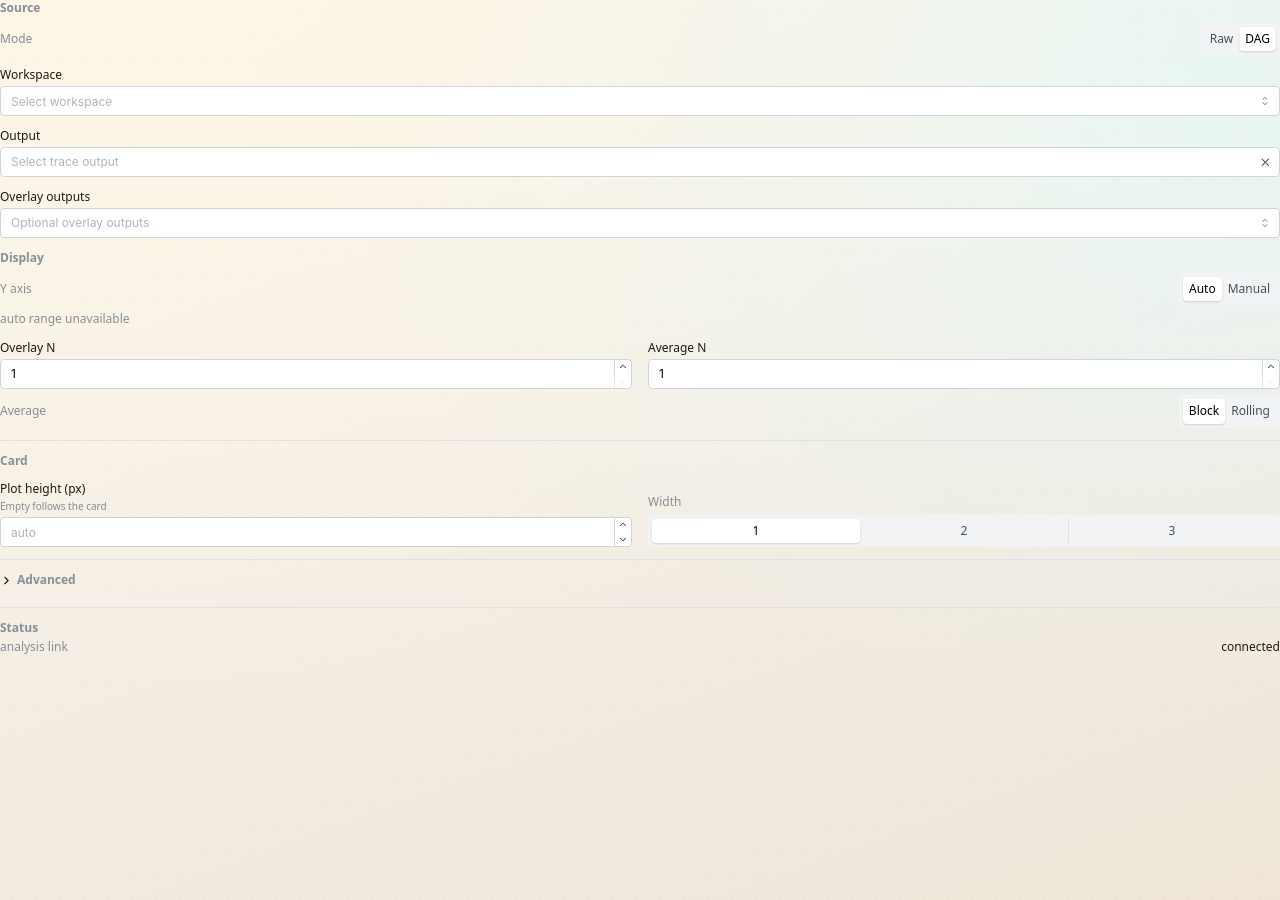
Test: PanelCard › settings › keeps only the set-once trace knobs under Advanced
Click the button "Advanced".
click(46, 580)  # box [0,572,1279,589]
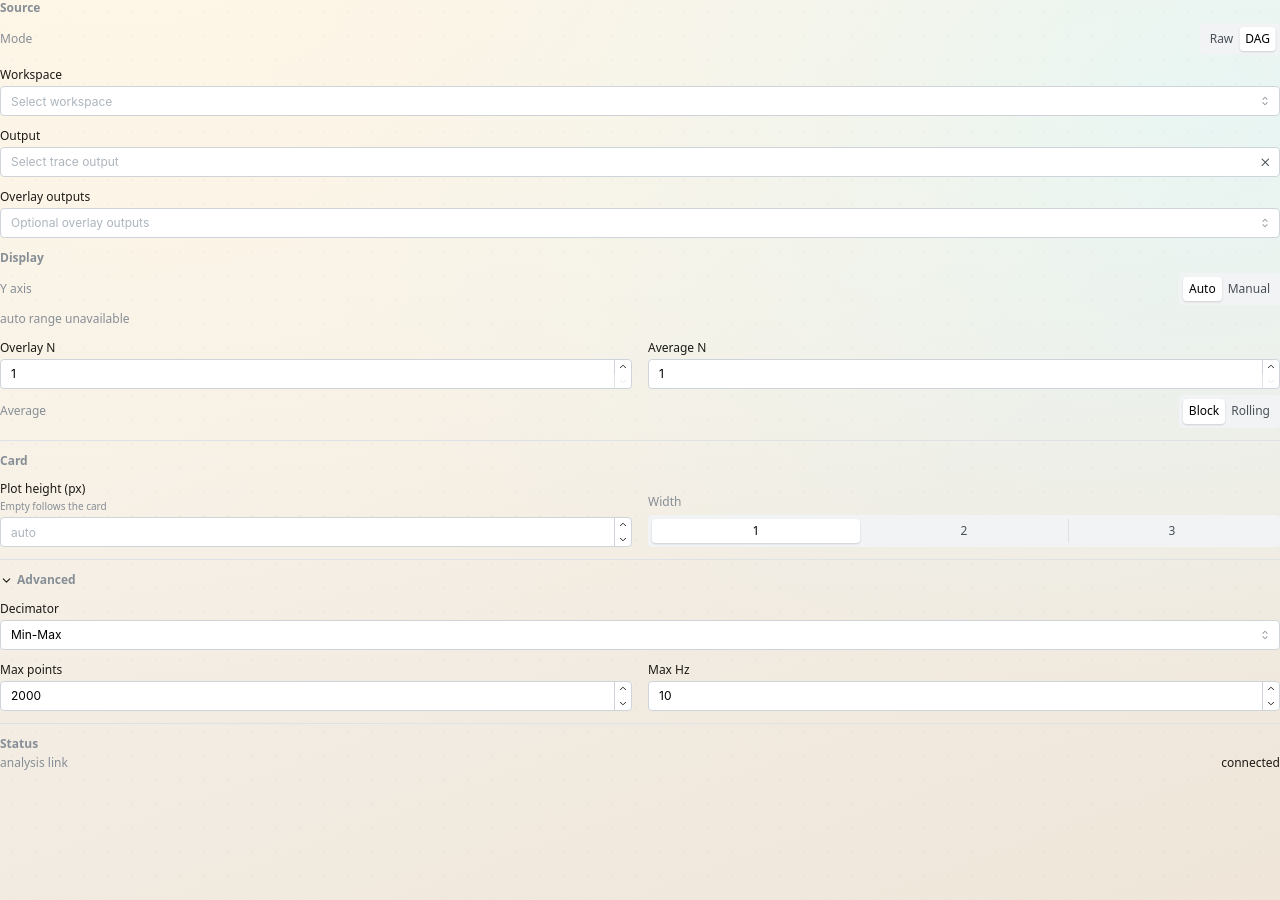
Expected: the button "Advanced" is expanded, [0,572,1279,589]
